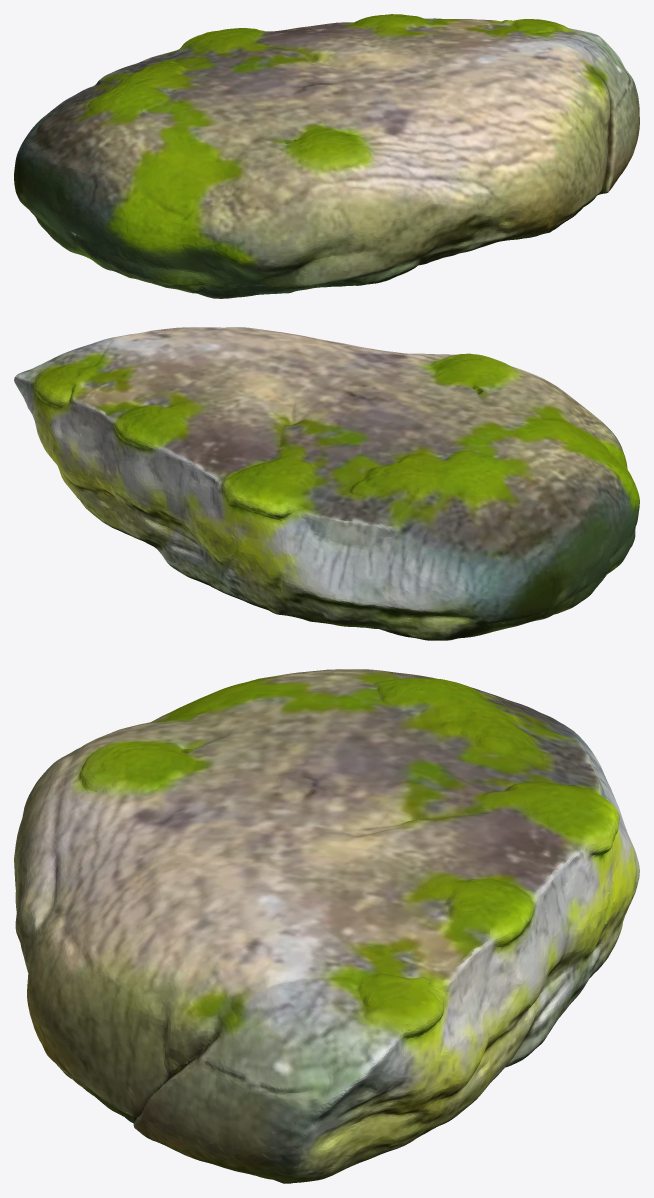
The model's file is swamp_bog_rock_01.glb.
The picture shows the model from 3 angles, top to bottom: view 1: azimuth 30°, elevation 25°; view 2: azimuth 150°, elevation 25°; view 3: azimuth 270°, elevation 25°; orthographic projection. The views are drawn at different scales.
Parts seen in each view (by area): view 1: geometry_0; view 2: geometry_0; view 3: geometry_0.
Part boxes in pixels (x1,y1,x2,y2): geometry_0: [14, 14, 639, 298]; geometry_0: [14, 327, 639, 640]; geometry_0: [14, 669, 639, 1183].
Bounding box in the file's own units: 1 × 0.2449 × 0.6607.
Materials: 1 (1 with a texture image).
